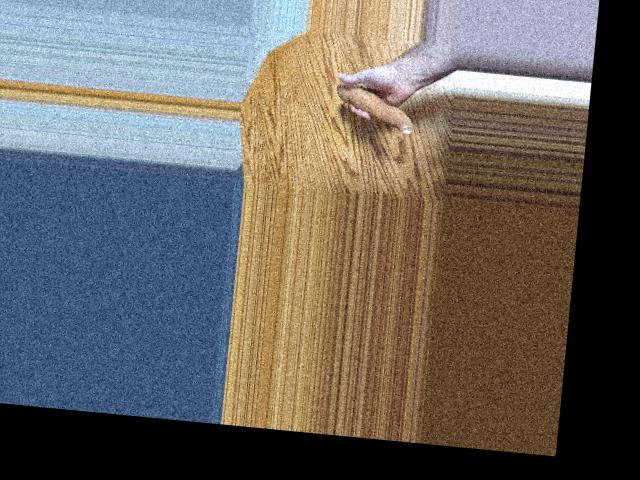sweet_potato: (329, 84, 417, 133)
